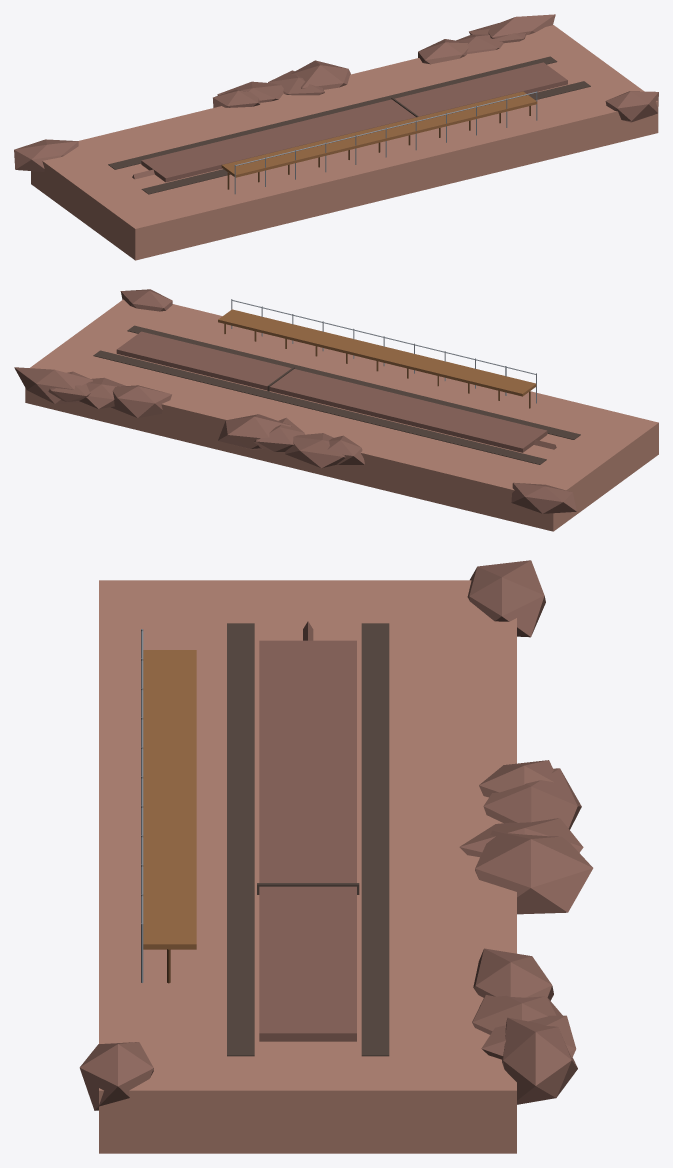
Rendered from obelisk_oavslutad.glb.
3 renders of one model, top to bottom at view 1: azimuth 30°, elevation 25°; view 2: azimuth 150°, elevation 25°; view 3: azimuth 270°, elevation 25°, orthographic. The views are drawn at different scales.
Visible parts, largest first — view 1: obelisk_oavslutad; view 2: obelisk_oavslutad; view 3: obelisk_oavslutad.
Part boxes in pixels (x1=…): obelisk_oavslutad: x1=14, y1=14, x2=658, y2=260; obelisk_oavslutad: x1=14, y1=289, x2=658, y2=531; obelisk_oavslutad: x1=79, y1=560, x2=593, y2=1153.
Size of the model in its own units: 54.61 by 5.8 by 22.13.
